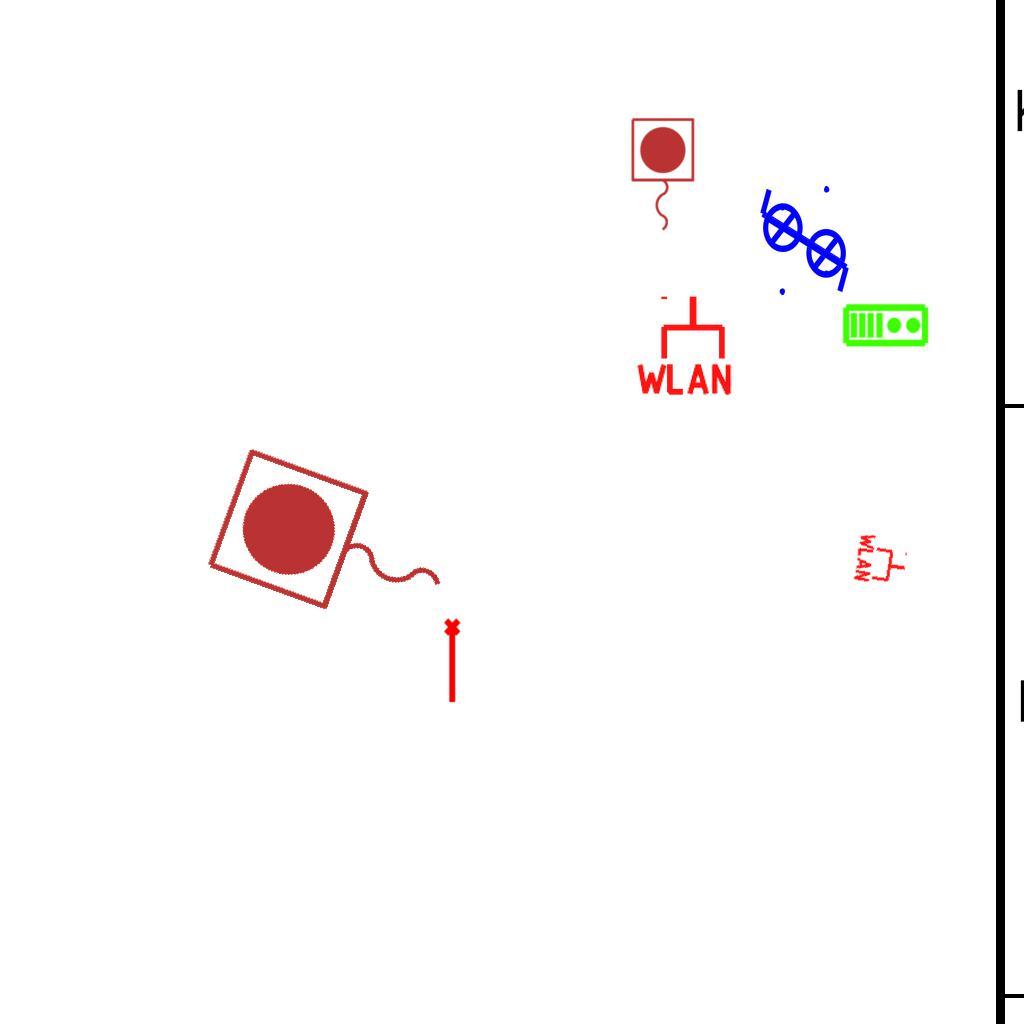ASR_Ansaugoeffnung: (442, 617, 465, 705)
Ausschalter_beleuchtet: (752, 180, 848, 292), (761, 189, 857, 301)
Gegensprechanlage_mit_Video: (842, 301, 930, 348)
WLAN: (632, 292, 736, 397), (852, 530, 912, 590)
Zugtaster: (195, 438, 475, 658), (626, 114, 698, 236)
